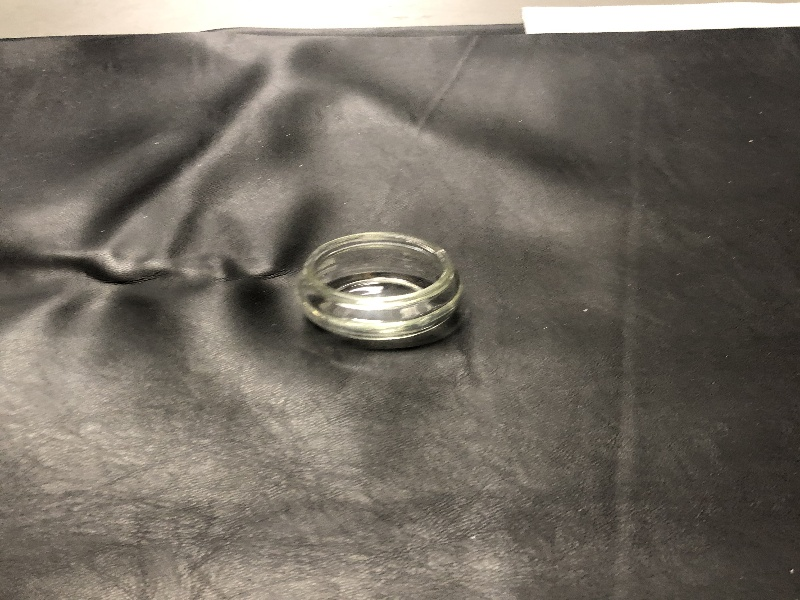glass: (291, 219, 484, 362)
